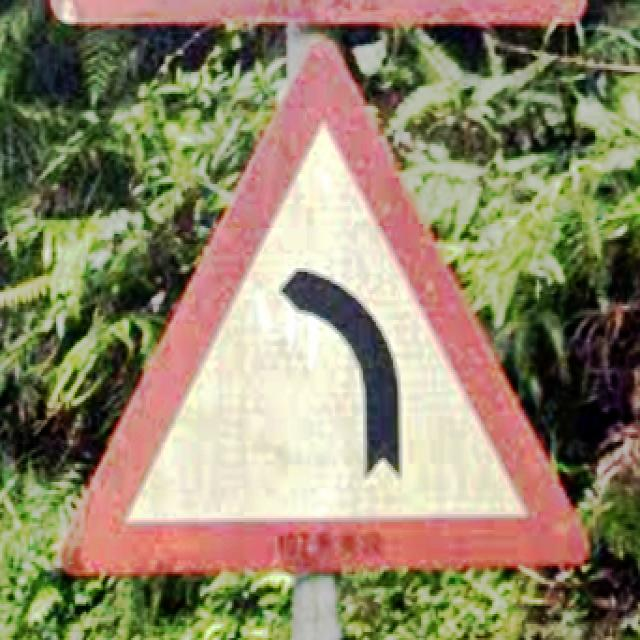leftbend: (58, 38, 591, 576)
